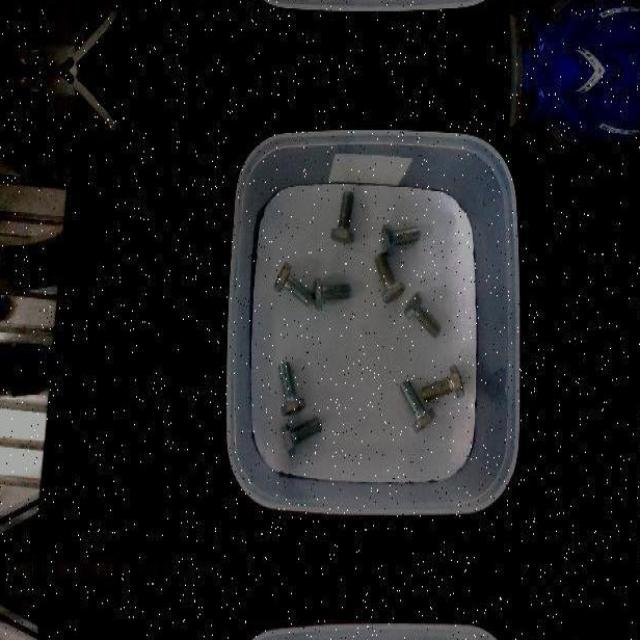screw: (399, 378, 434, 434), (404, 291, 443, 338), (273, 260, 313, 305), (281, 416, 322, 457), (423, 366, 465, 403), (374, 252, 405, 302), (278, 361, 306, 416), (332, 191, 356, 245), (381, 224, 420, 256), (314, 276, 352, 308)
